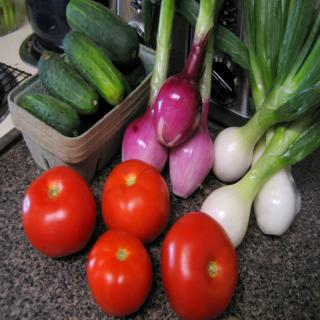tomato: (161, 212, 237, 320), (21, 168, 95, 256), (100, 157, 170, 243), (86, 228, 152, 317)
